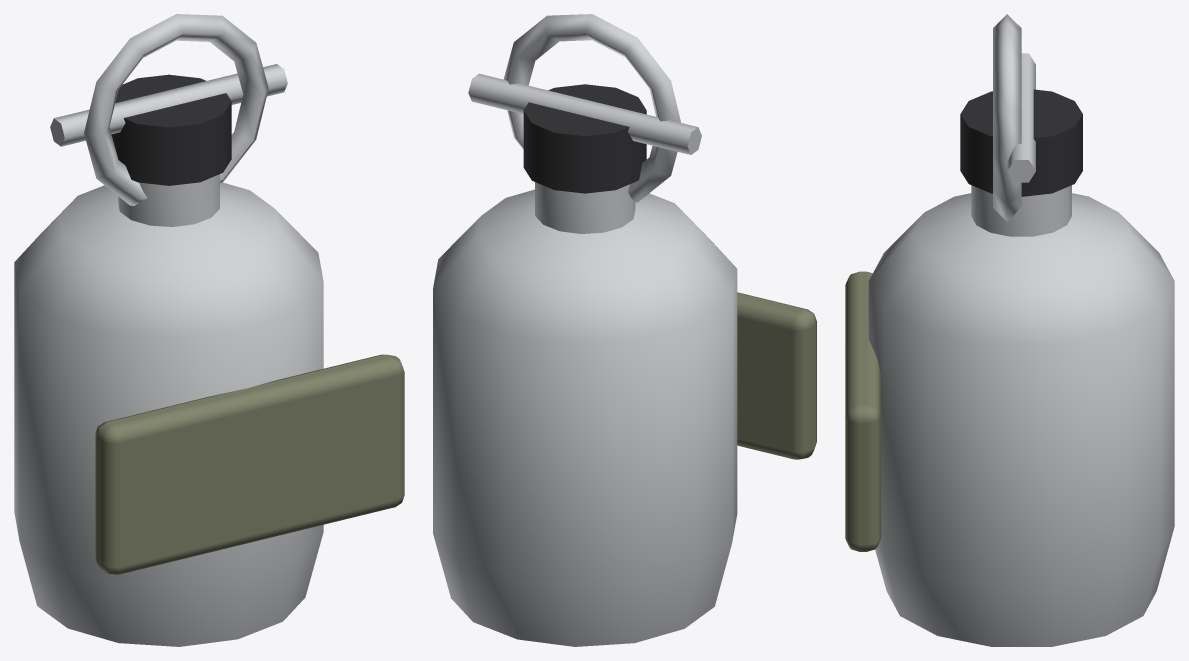
Rendered from fps-survival-forest-outpost-canteen-8846bb28__32668.glb.
The picture shows the model from 3 angles, left to right: view 1: azimuth 30°, elevation 25°; view 2: azimuth 150°, elevation 25°; view 3: azimuth 270°, elevation 25°; orthographic projection. The views are drawn at different scales.
Visible parts, largest first — view 1: canteen; view 2: canteen; view 3: canteen.
Boxes of the visible parts, x1,y1,x2,y2 form: canteen: (14,14,404,646); canteen: (433,14,816,646); canteen: (845,14,1174,646).
Bounding box in the file's own units: 0.19 × 0.358 × 0.183.
